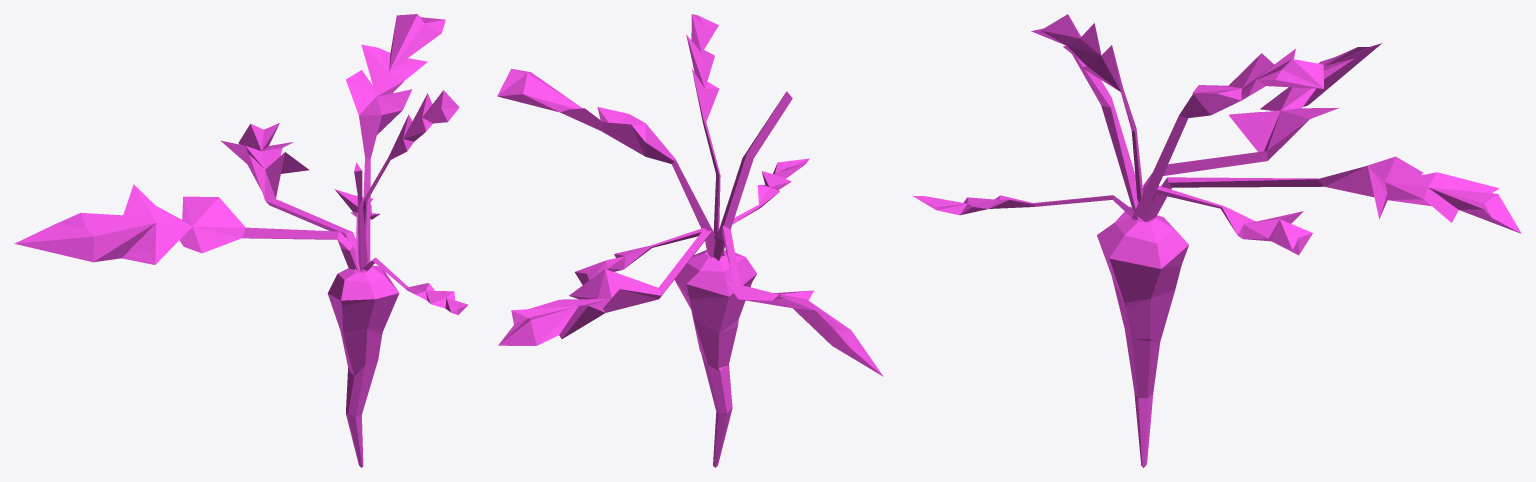
Rendered from SM_Parsnip_Plant_Dead_Root.fbx.
The picture shows the model from 3 angles, left to right: view 1: azimuth 30°, elevation 25°; view 2: azimuth 150°, elevation 25°; view 3: azimuth 270°, elevation 25°; orthographic projection. The views are drawn at different scales.
Visible parts, largest first — view 1: SM_Parsnip_Plant_Dead_Root; view 2: SM_Parsnip_Plant_Dead_Root; view 3: SM_Parsnip_Plant_Dead_Root.
Boxes of the visible parts, box(x1,y1,x2,y2) form: SM_Parsnip_Plant_Dead_Root: box(14, 14, 468, 467); SM_Parsnip_Plant_Dead_Root: box(497, 14, 883, 467); SM_Parsnip_Plant_Dead_Root: box(912, 14, 1521, 467).
Size of the model in its own units: 0.8125 by 0.7727 by 0.8791.
